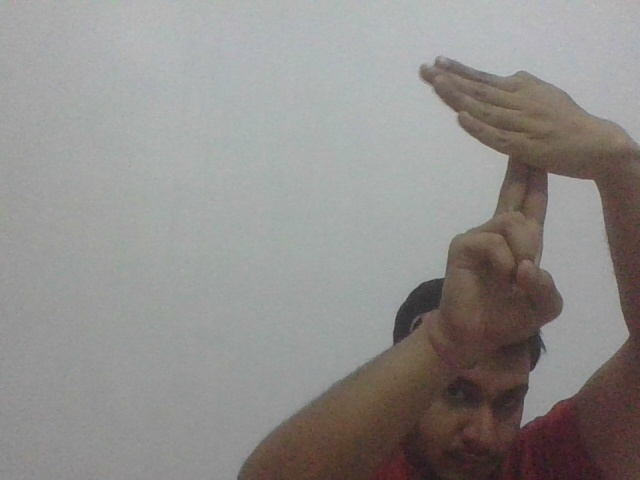N: (413, 50, 595, 221)
